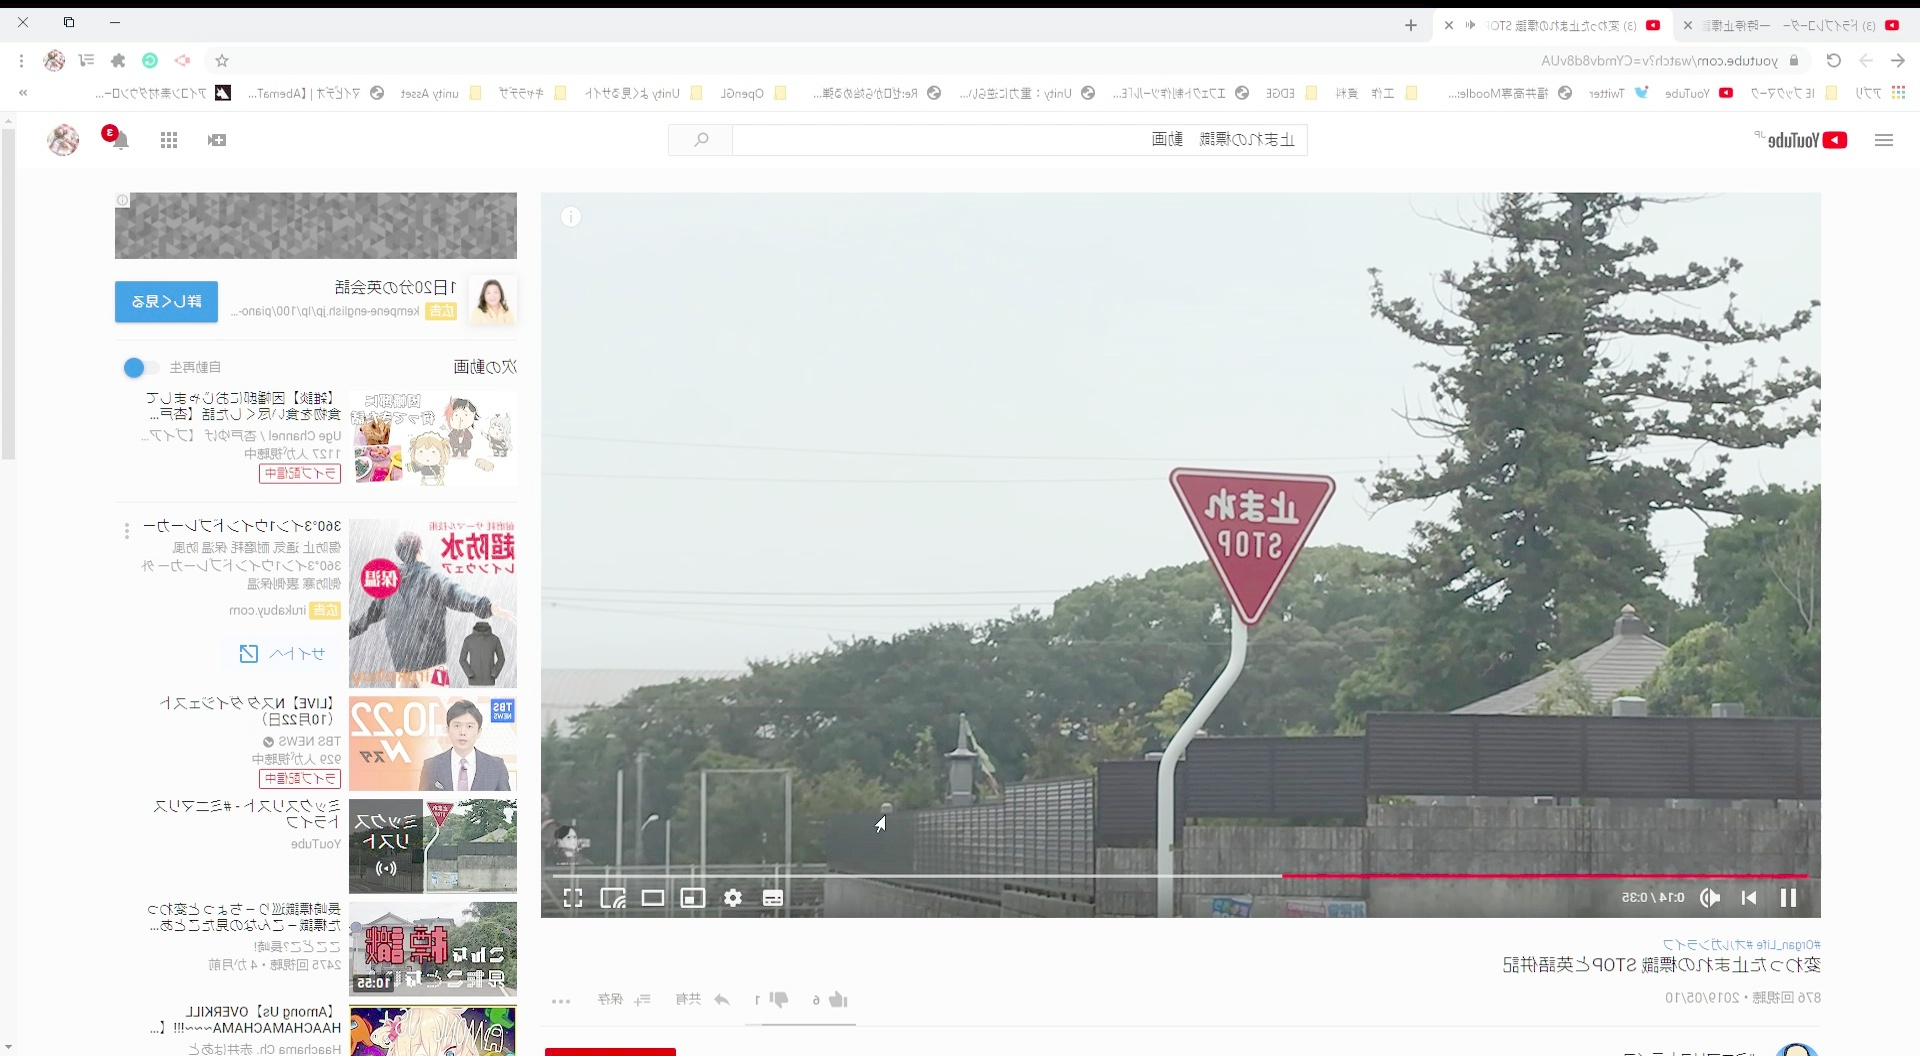Regulatory_sign_triangle: (1149, 440, 1356, 642)
